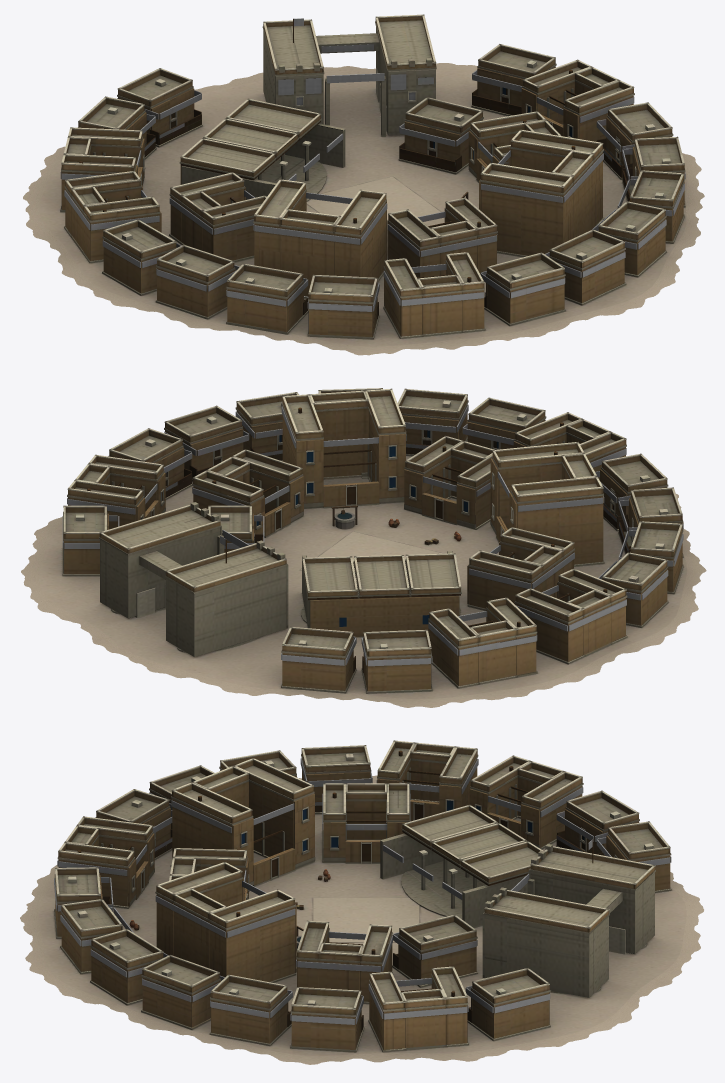
File: bronze-town-big-b-israelite-363ab429.glb
3 views of the same model, one above another, from view 1: azimuth 30°, elevation 25°; view 2: azimuth 150°, elevation 25°; view 3: azimuth 270°, elevation 25° (orthographic).
Parts seen in each view (by area): view 1: LOD0; view 2: LOD0; view 3: LOD0.
Boxes of the visible parts, x1,y1,x2,y2 form: LOD0: [23, 14, 704, 355]; LOD0: [21, 388, 706, 707]; LOD0: [20, 740, 703, 1064].
Size of what is drawn, in the model's own units: 7.95 by 1.25 by 7.89.
3 materials, 3 textured.
